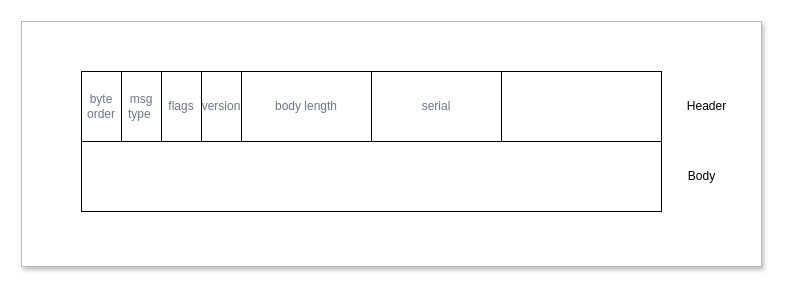
This 785x291 diagram has some shape labels left out. The shapes that lost their labels are listed below. From the top down, each one's centre as x and y in pixels, then its label:
At pixel 581 106: "(field name, value)".
At pixel 371 176: "message content".
